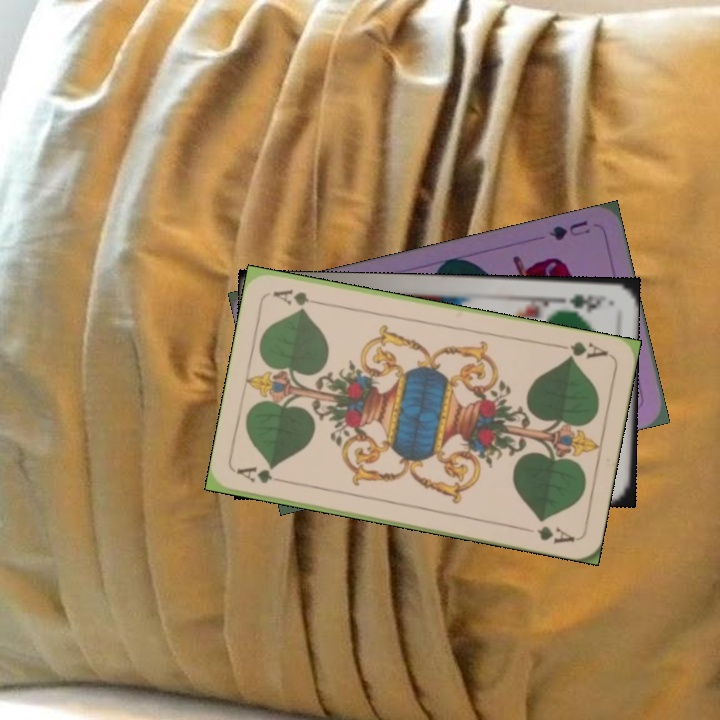GA: (553, 337, 611, 362), (233, 463, 292, 487)
GK: (554, 289, 610, 311)
GU: (545, 216, 593, 243)
